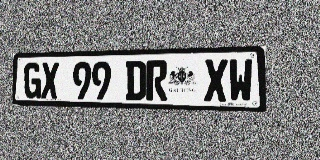9: (92, 61, 111, 100), (73, 62, 91, 99)
D: (125, 60, 146, 100)
G: (24, 62, 41, 99)
R: (146, 60, 168, 101)
W: (228, 58, 253, 102)
X: (204, 59, 228, 102), (41, 62, 59, 99)
